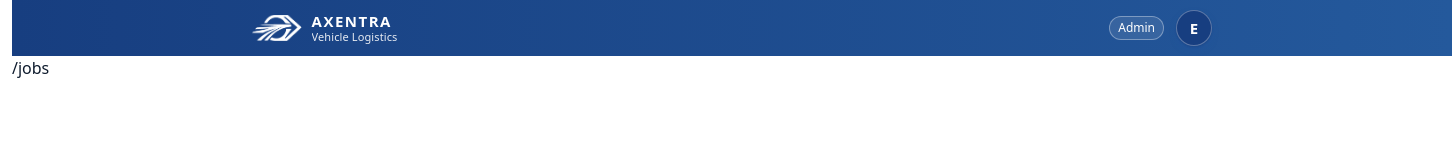
Scenario: Shared dashboard brand header › shows the original lockup, role and profile shortcut
The width and height of the screenshot is (1452, 160).
Later steps or results of the test are not shown.
Check: the text "AXENTRA" is shown, box [312,12,392,30]
Check: the text "Vehicle Logistics" is shown, box [312,30,398,44]
Click the button named "profile": (1194, 28) [1172,6,1216,50]
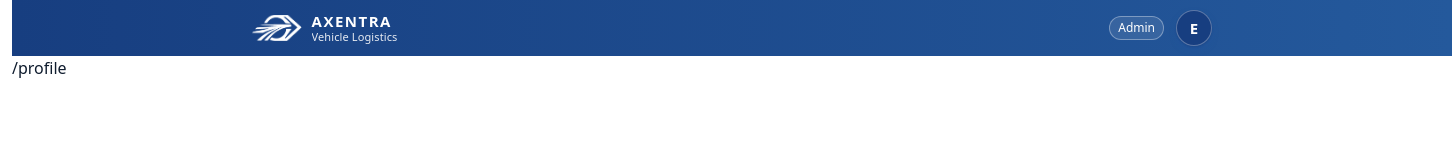
Check: the text "/profile" is shown, box [12,57,66,79]
